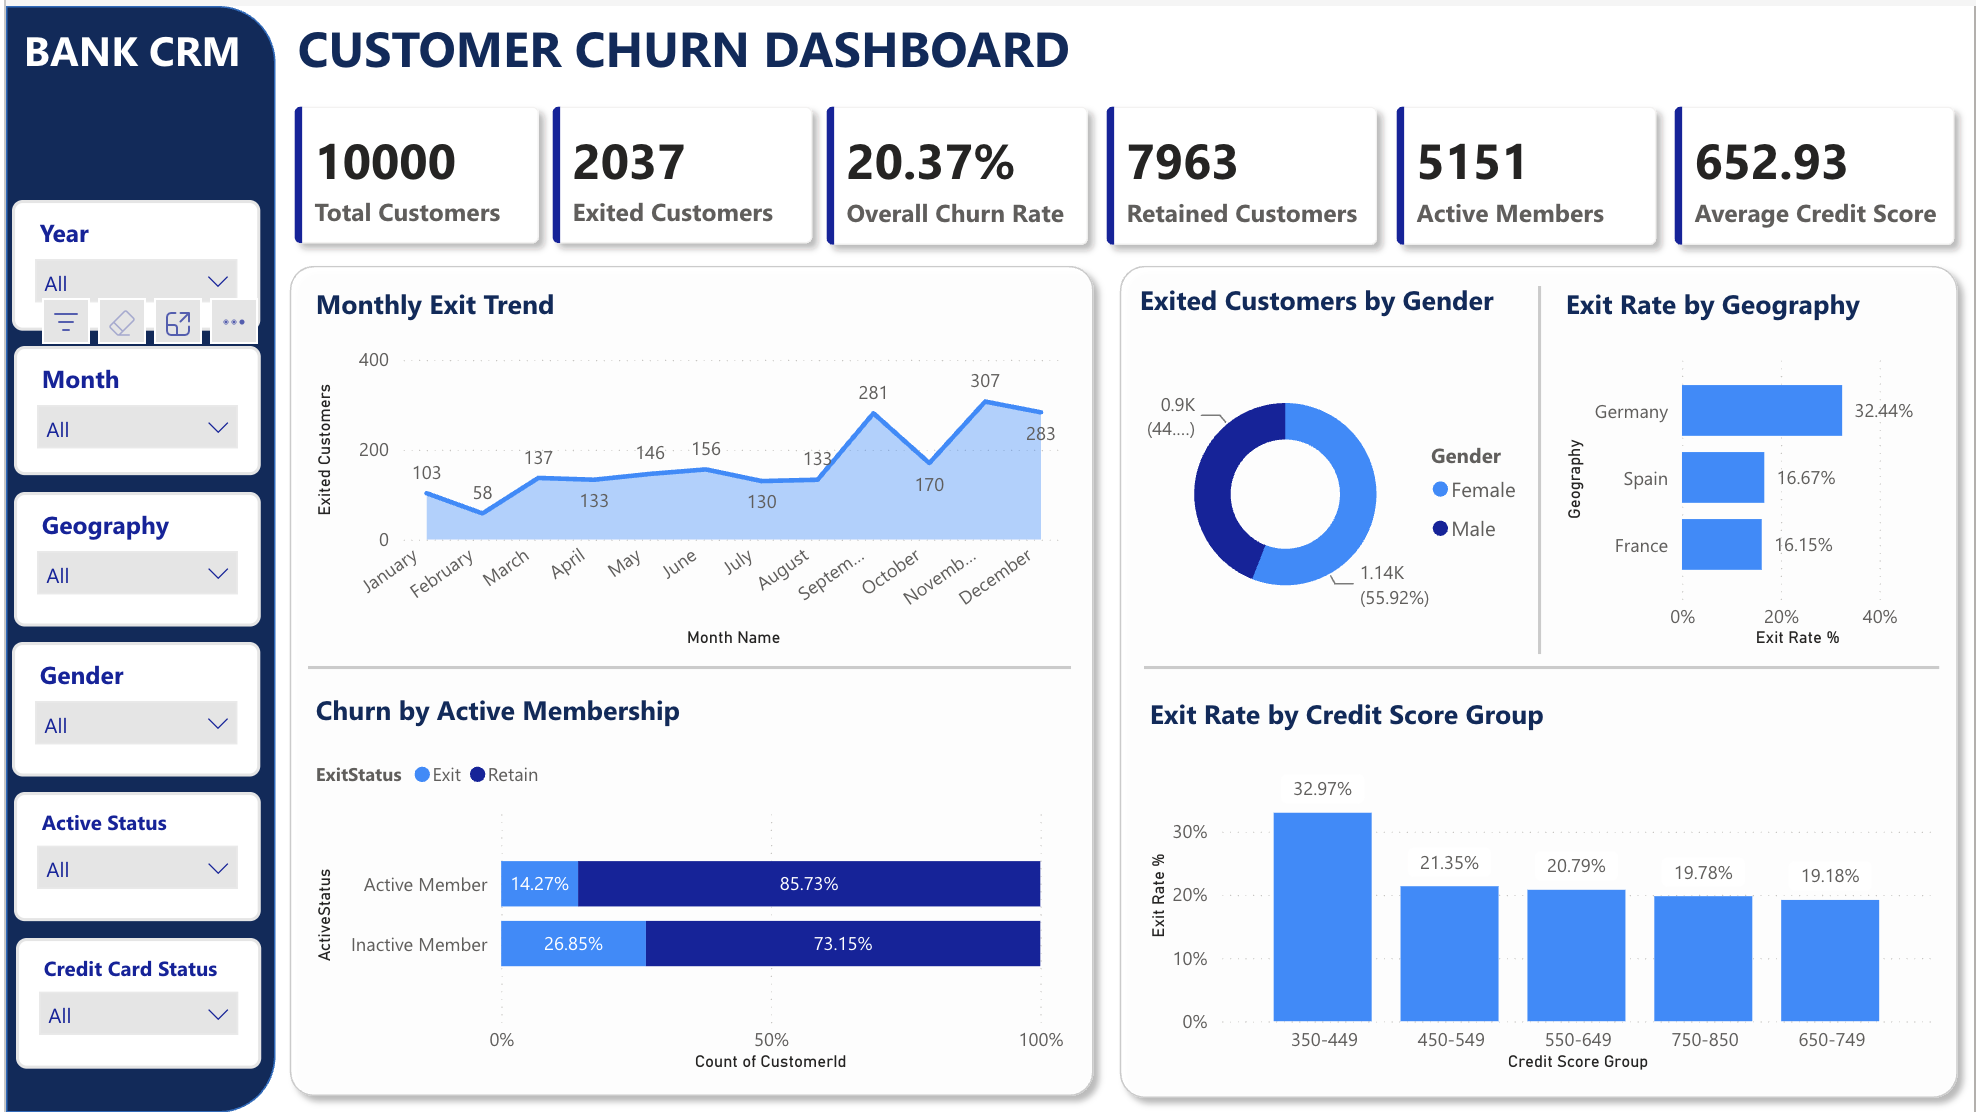

The page's visual inventory and layout, read from the dashboard file:
{"tool":"powerbi","page":{"name":"CUSTOMER CHURN DASHBOARD","canvas":[1280,720],"ordinal":0},"visuals":[{"type":"shape","box":[0,0,175.3,719.8],"z":0},{"type":"shape","box":[175.3,160.5,540.7,558],"z":1000},{"type":"shape","box":[716,160.5,563,559.3],"z":2000},{"type":"textbox","box":[185.2,0,530.9,54.3],"z":3000},{"type":"slicer","fields":{"Values":["bankcrm vw_bankcustomer.Geography"]},"box":[4.9,315.8,160.5,87.7],"z":4000},{"type":"slicer","fields":{"Values":["bankcrm vw_bankcustomer.Gender"]},"box":[3.7,413.8,161.7,87.7],"z":5000},{"type":"slicer","fields":{"Values":["bankcrm vw_bankcustomer.ActiveStatus"]},"box":[4.9,511.9,160.5,84],"z":6000},{"type":"slicer","fields":{"Values":["bankcrm vw_bankcustomer.CreditCardStatus"]},"box":[6.2,606.2,159.3,85.2],"z":7000},{"type":"slicer","title":"hjkhjk","fields":{"Values":["bankcrm vw_bankcustomer.Year"]},"box":[3.7,125.9,161.7,85.2],"z":8000},{"type":"slicer","fields":{"Values":["bankcrm vw_bankcustomer.Month Name"]},"box":[4.9,221.5,160.5,84],"z":9000},{"type":"cardVisual","title":"Exited Customers","fields":{"Data":["Count(bankcrm vw_bankcustomer.CustomerId)"]},"box":[342.8,52.7,193.3,113.9],"z":10000},{"type":"cardVisual","title":"Total Churn Rate","fields":{"Data":["bankcrm vw_bankcustomer.Exit Rate %"]},"box":[521.7,52.7,194.2,114.2],"z":11000},{"type":"cardVisual","title":"Retained Customers","fields":{"Data":["CountNonNull(bankcrm vw_bankcustomer.CustomerId)"]},"box":[703.3,52.7,200.8,114.2],"z":12000},{"type":"cardVisual","title":"Active Members","fields":{"Data":["Count(bankcrm vw_bankcustomer.CustomerId)"]},"box":[892.5,52.7,193.3,114.2],"z":13000},{"type":"cardVisual","title":"Average Credit Score","fields":{"Data":["Avg(bankcrm vw_bankcustomer.CreditScore)"]},"box":[1073.3,52.7,206.7,114.2],"z":14000},{"type":"donutChart","title":"Exited Customers by Gender","fields":{"Category":["bankcrm vw_bankcustomer.Gender"],"Y":["Count(bankcrm vw_bankcustomer.CustomerId)"]},"box":[732.1,179,265.4,242],"z":15000},{"type":"cardVisual","fields":{"Data":["CountNonNull(bankcrm vw_bankcustomer.CustomerId)"]},"box":[175.3,52.7,184,113.6],"z":16000},{"type":"lineClusteredColumnComboChart","title":"Exit Rate by Credit Score Group","fields":{"Category":["bankcrm vw_bankcustomer.Credit Score Group"],"Y":["bankcrm vw_bankcustomer.Exit Rate %"]},"box":[738.3,448.1,519.8,248.1],"z":17000},{"type":"hundredPercentStackedBarChart","title":"Churn by Active Membership","fields":{"Category":["bankcrm vw_bankcustomer.ActiveStatus"],"Series":["bankcrm vw_bankcustomer.ExitStatus"],"Y":["Count(bankcrm vw_bankcustomer.CustomerId)"]},"box":[196.3,445.7,496.3,250.6],"z":18000},{"type":"lineChart","title":"Monthly Exit Trend","fields":{"Category":["bankcrm vw_bankcustomer.Month Name"],"Y":["bankcrm vw_bankcustomer.Exited Customers"]},"box":[196.3,181.5,496.3,239.5],"z":19000},{"type":"clusteredBarChart","title":"Exit Rate by Geography","fields":{"Category":["bankcrm vw_bankcustomer.Geography"],"Y":["bankcrm vw_bankcustomer.Exit Rate %"]},"box":[1009.9,181.5,248.1,239.5],"z":20000},{"type":"shape","box":[740.7,412.3,517.3,35.8],"z":21000},{"type":"shape","box":[196.3,412.3,496.3,35.8],"z":22000},{"type":"shape","box":[895.1,181.5,204.9,239.5],"z":23000},{"type":"textbox","box":[6.2,4.9,165.4,49.4],"z":24000}]}

Visuals, with their boxes in screenshot pixels (x1, y1, x2, y2), scaled from the page's 1280x720 canvas onto the 1976x1112 screenshot:
shape: detection(0, 0, 271, 1111)
shape: detection(271, 248, 1105, 1110)
shape: detection(1105, 248, 1974, 1111)
textbox: detection(286, 0, 1105, 84)
slicer - bankcrm vw_bankcustomer.Geography: detection(8, 488, 255, 623)
slicer - bankcrm vw_bankcustomer.Gender: detection(6, 639, 255, 775)
slicer - bankcrm vw_bankcustomer.ActiveStatus: detection(8, 791, 255, 920)
slicer - bankcrm vw_bankcustomer.CreditCardStatus: detection(10, 936, 255, 1068)
"hjkhjk" slicer: detection(6, 194, 255, 326)
slicer - bankcrm vw_bankcustomer.Month Name: detection(8, 342, 255, 472)
"Exited Customers" cardVisual: detection(529, 81, 828, 257)
"Total Churn Rate" cardVisual: detection(805, 81, 1105, 258)
"Retained Customers" cardVisual: detection(1086, 81, 1396, 258)
"Active Members" cardVisual: detection(1378, 81, 1676, 258)
"Average Credit Score" cardVisual: detection(1657, 81, 1975, 258)
"Exited Customers by Gender" donutChart: detection(1130, 276, 1540, 650)
cardVisual - CountNonNull(bankcrm vw_bankcustomer.CustomerId): detection(271, 81, 555, 257)
"Exit Rate by Credit Score Group" lineClusteredColumnComboChart: detection(1140, 692, 1942, 1075)
"Churn by Active Membership" hundredPercentStackedBarChart: detection(303, 688, 1069, 1075)
"Monthly Exit Trend" lineChart: detection(303, 280, 1069, 650)
"Exit Rate by Geography" clusteredBarChart: detection(1559, 280, 1942, 650)
shape: detection(1143, 637, 1942, 692)
shape: detection(303, 637, 1069, 692)
shape: detection(1382, 280, 1698, 650)
textbox: detection(10, 8, 265, 84)
